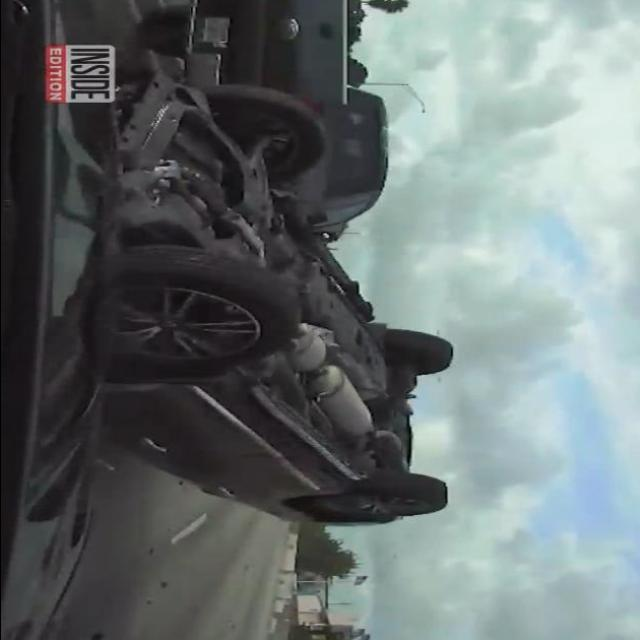accident: (98, 75, 454, 521)
